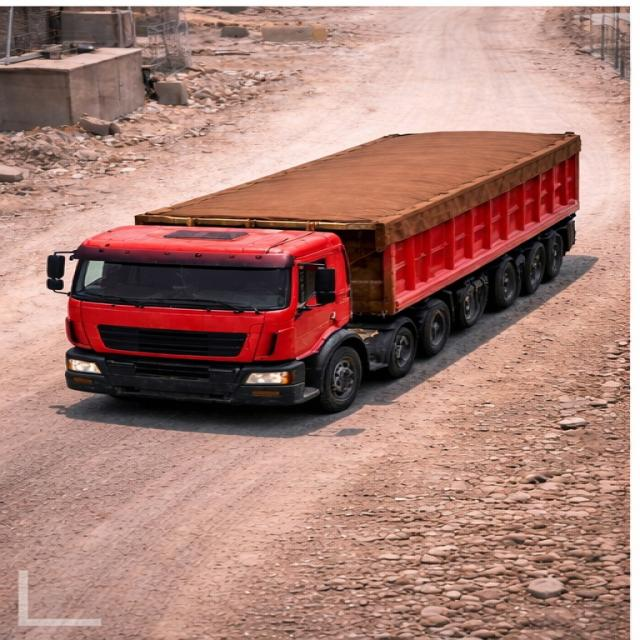trailer: (135, 132, 584, 224)
truck: (37, 130, 591, 418)
